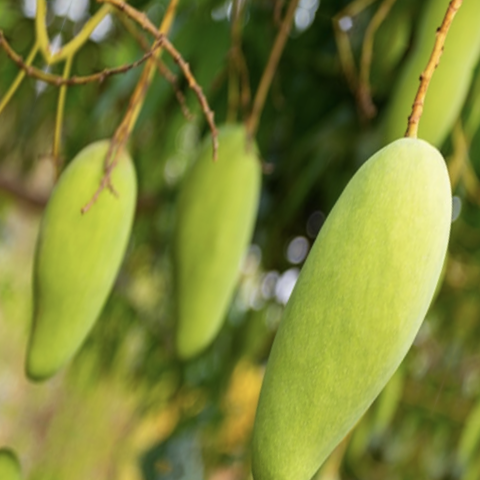mango: (200, 97, 480, 480), (109, 100, 302, 388), (0, 115, 166, 403)
